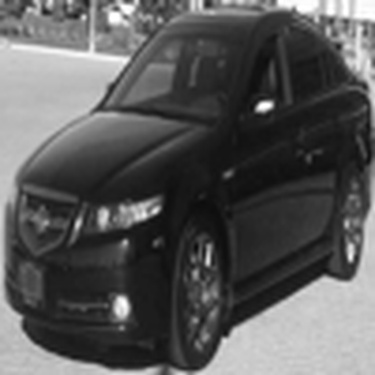car: (8, 6, 370, 371), (75, 3, 143, 34)
